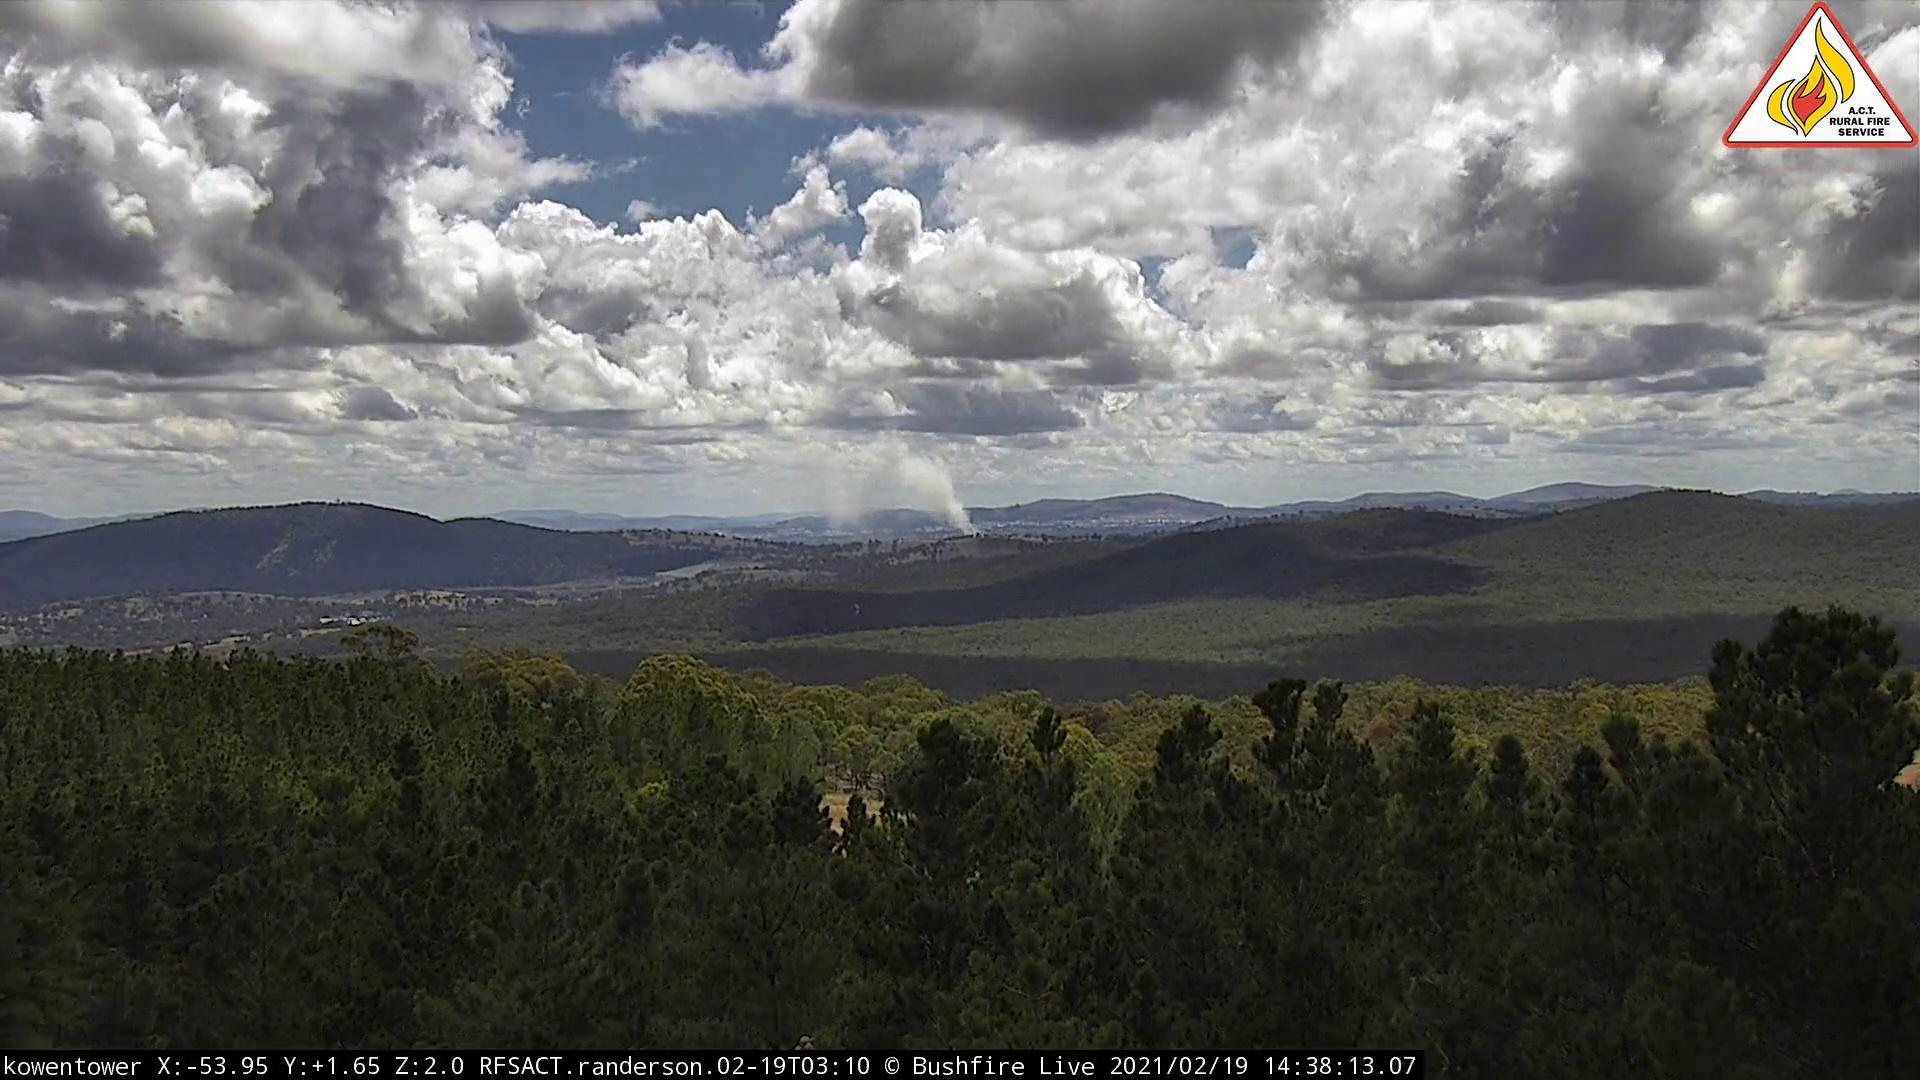Smoke: (789, 427, 986, 545)
